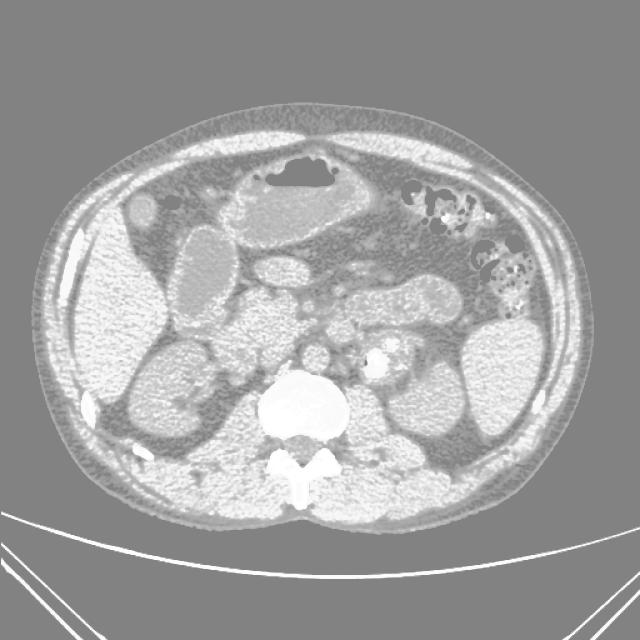STONE: (186, 86, 577, 369)
